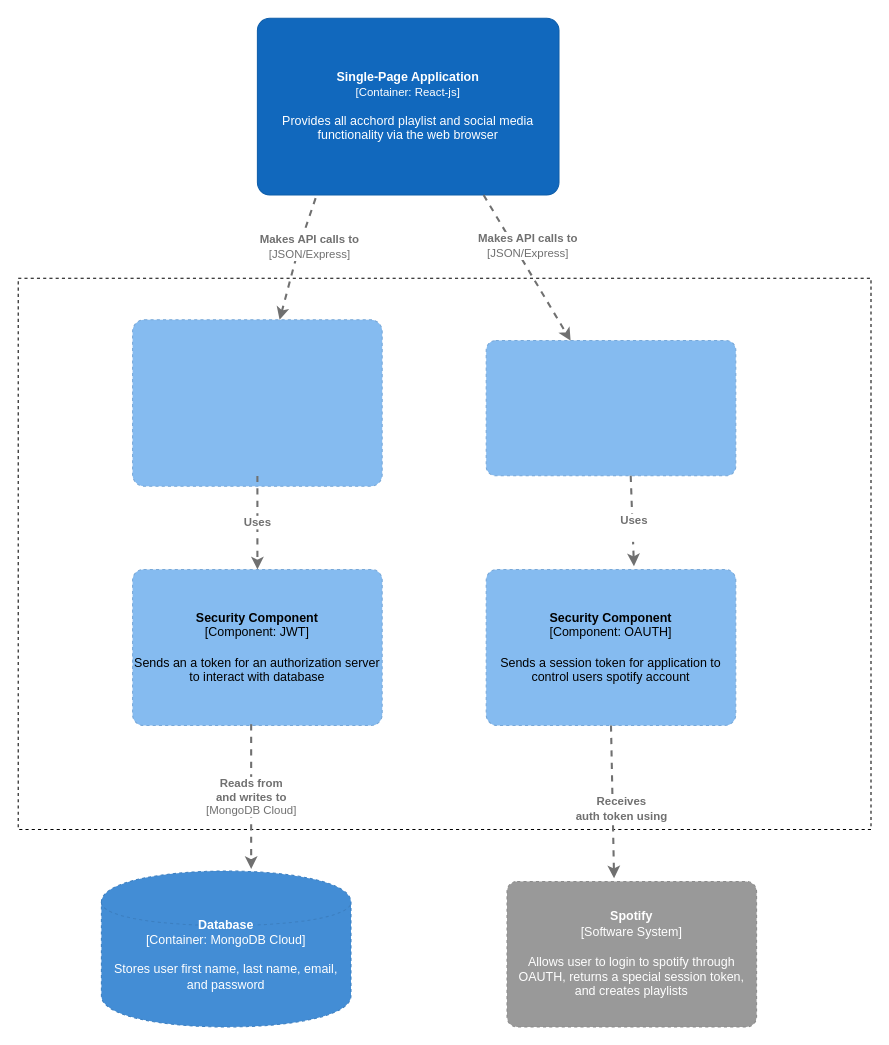
This 889x1045 diagram has some shape labels left out. Each missing label, with the centre of its shape:
Acchord sign in controller [Component: technology ] Description: point (257, 402)
Spotify Sign in controller [Component: technology ] Description: point (610, 408)
